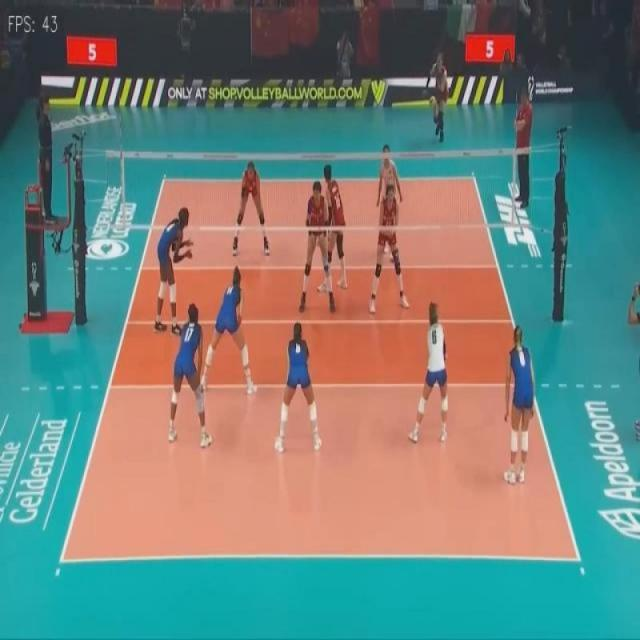volleyball: (429, 95, 436, 108)
